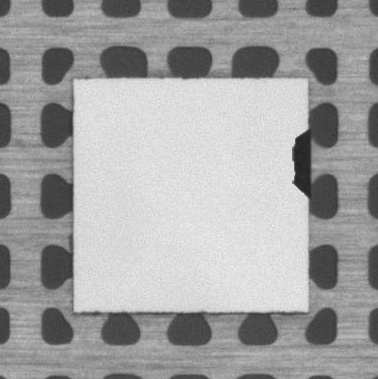DIE_BROKEN: (290, 127, 313, 197)
